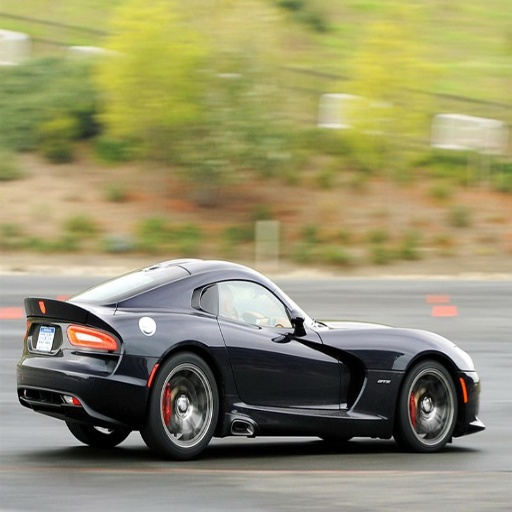back_right_door: (192, 275, 266, 404)
tailgate: (23, 296, 73, 353)
trunk: (27, 304, 101, 356)
